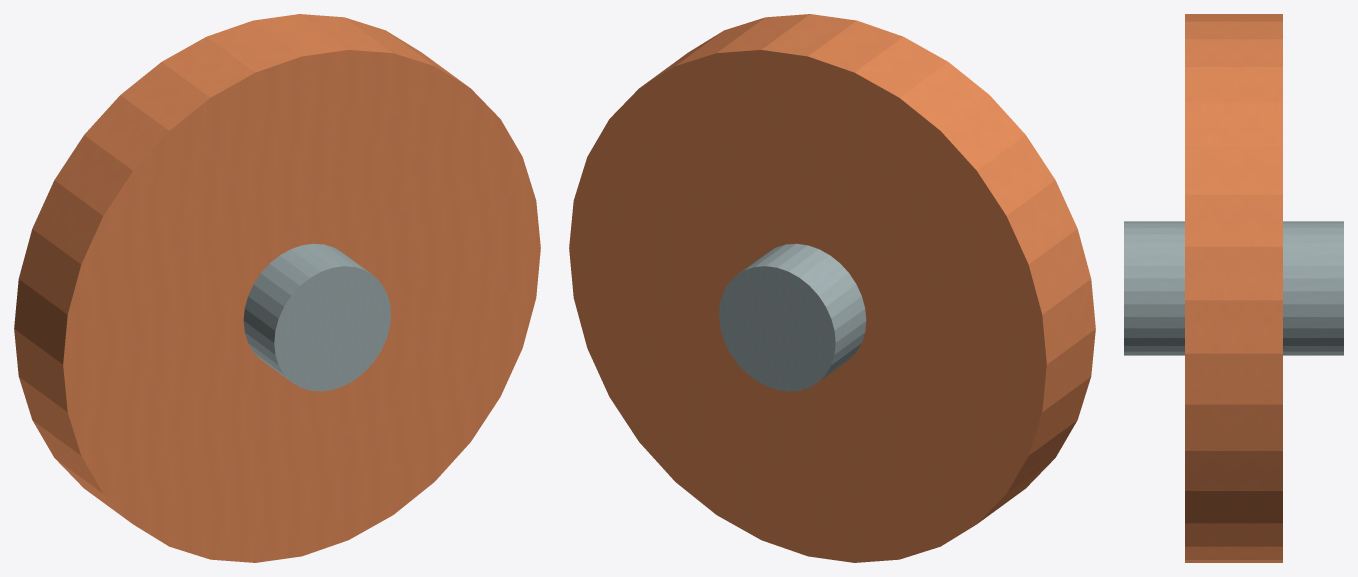
The model's file is pulley.glb.
The picture shows the model from 3 angles, left to right: view 1: azimuth 30°, elevation 25°; view 2: azimuth 150°, elevation 25°; view 3: azimuth 270°, elevation 25°; orthographic projection.
Visible parts, largest first — view 1: Pulley_Wheel, Pulley_Axle; view 2: Pulley_Wheel, Pulley_Axle; view 3: Pulley_Wheel, Pulley_Axle.
Boxes of the visible parts, bbox=[...] form: Pulley_Wheel: bbox=[14, 14, 540, 562]; Pulley_Axle: bbox=[243, 243, 390, 391]; Pulley_Wheel: bbox=[569, 14, 1095, 562]; Pulley_Axle: bbox=[719, 243, 866, 391]; Pulley_Wheel: bbox=[1185, 14, 1282, 562]; Pulley_Axle: bbox=[1124, 221, 1343, 355].
Bounding box in the file's own units: 0.9 × 0.9 × 0.36.
3 materials, 3 textured.
